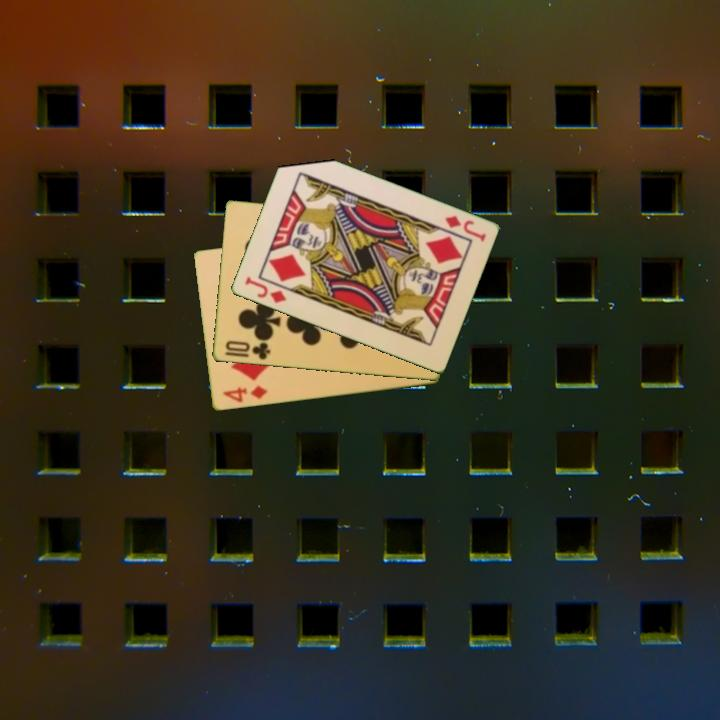10c: (222, 337, 273, 363)
4d: (218, 382, 270, 406)
Jd: (241, 273, 289, 306), (441, 212, 489, 245)
